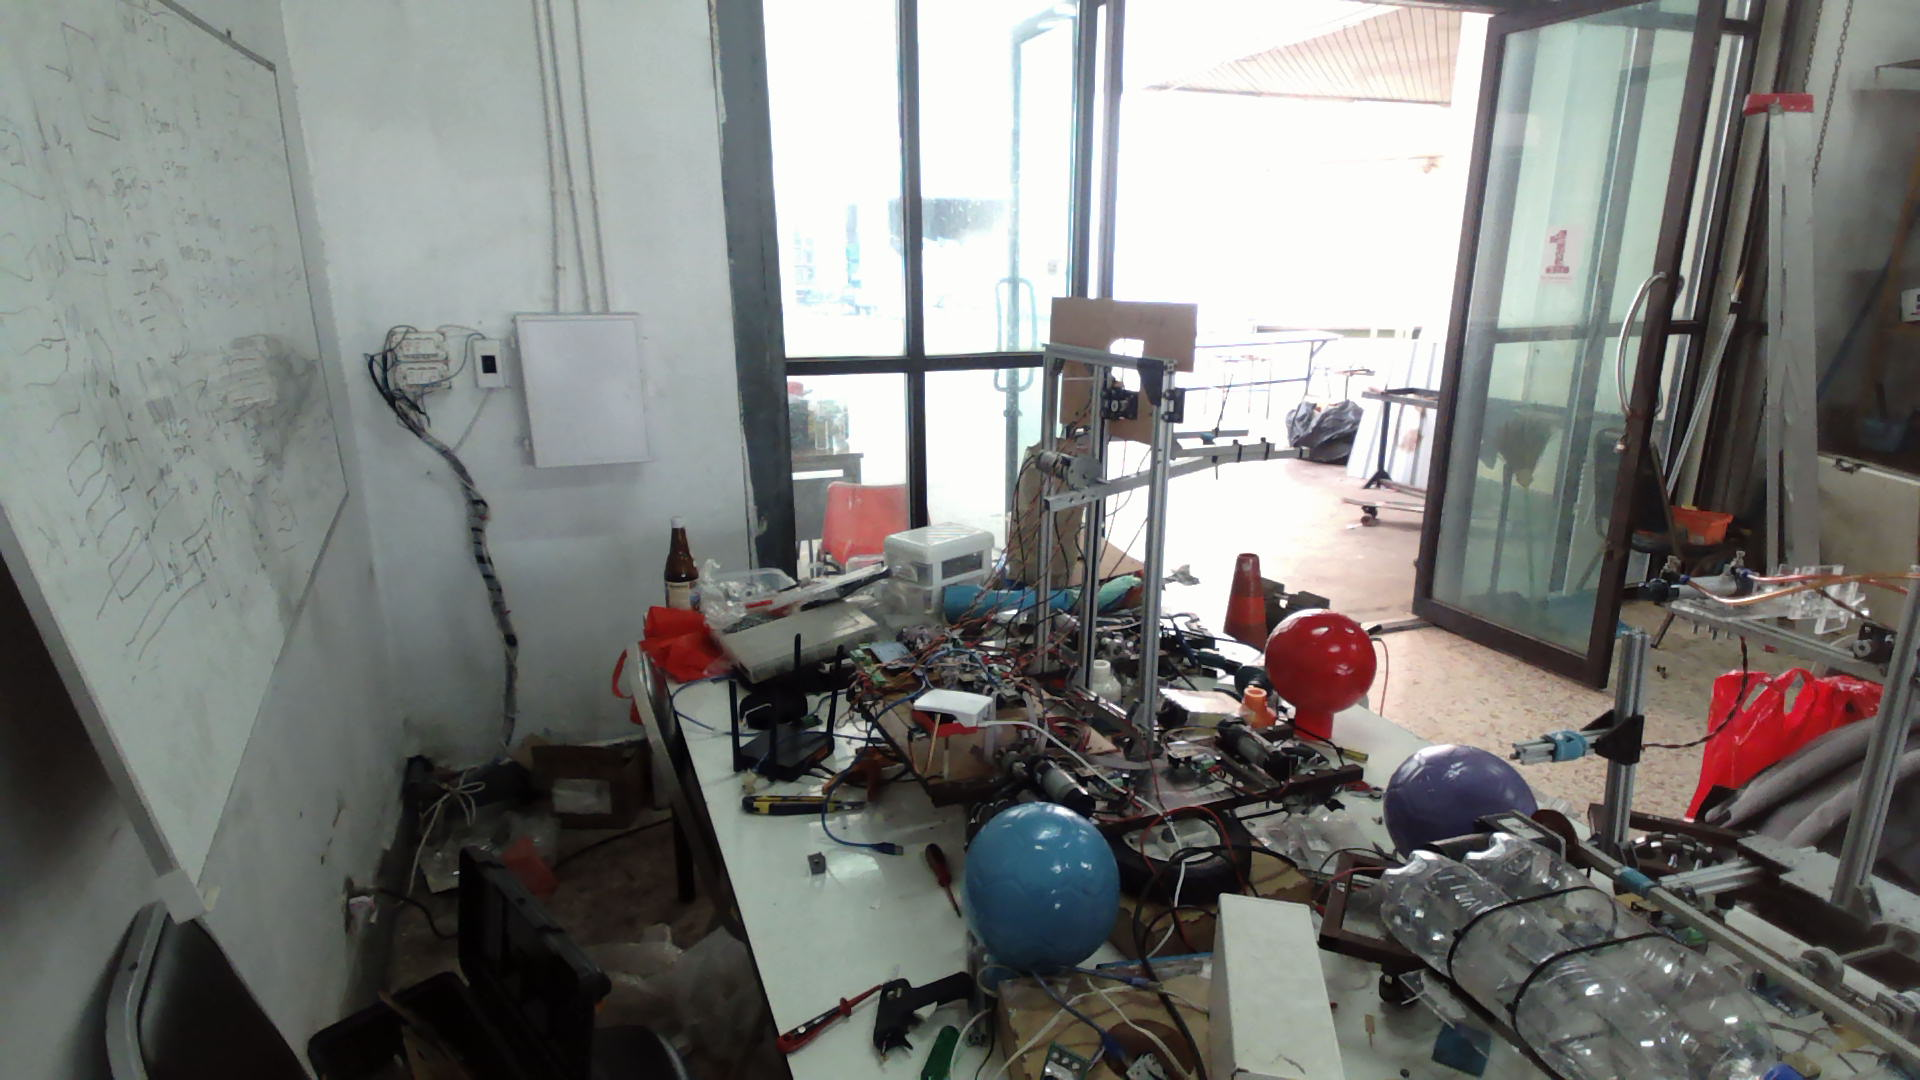Blue ball: (961, 800, 1124, 971)
Purple ball: (1379, 742, 1539, 848)
Red ball: (1261, 604, 1379, 716)
